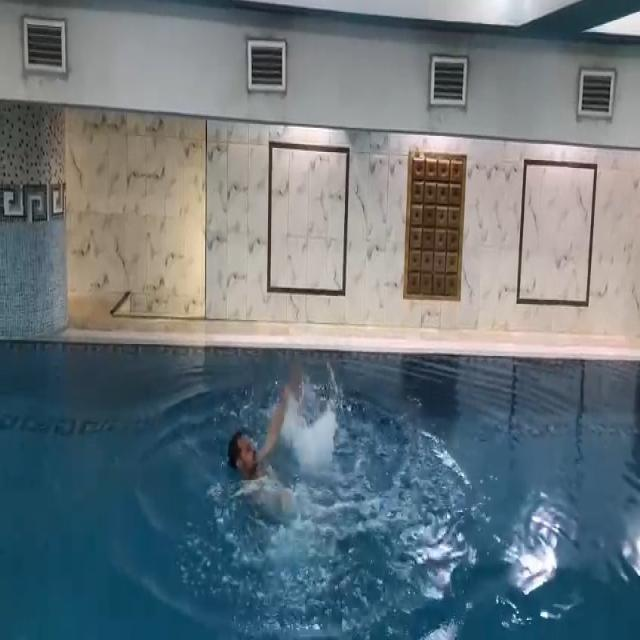Drowning: (224, 392, 300, 499)
